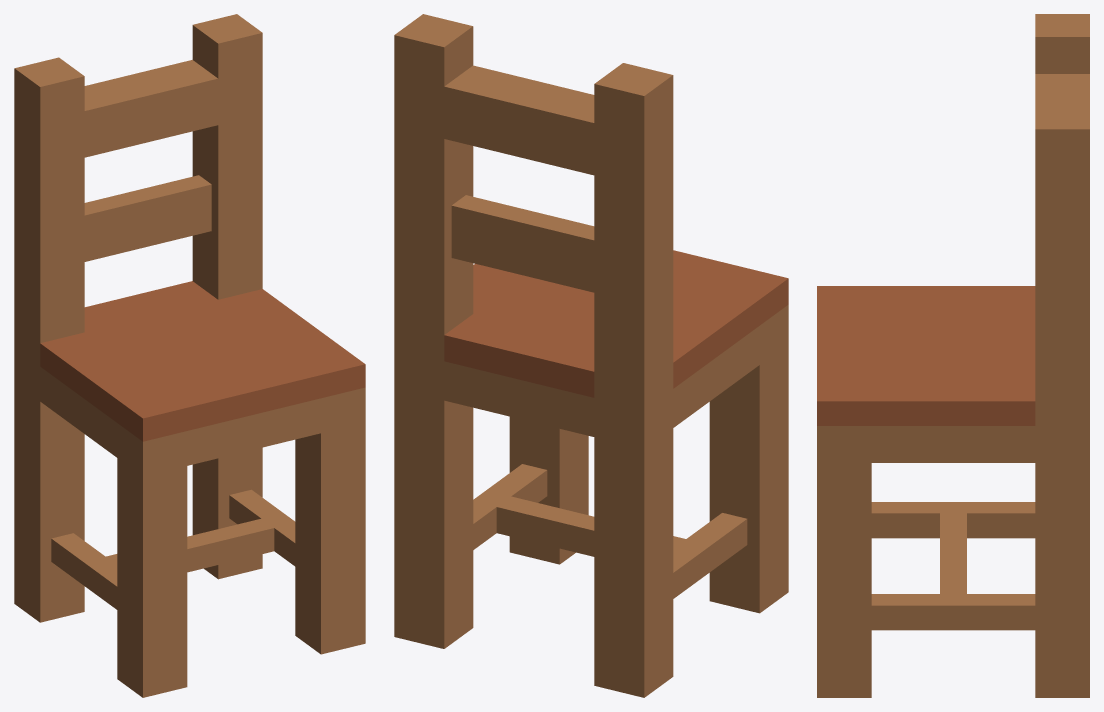
The model's file is chairCushion.glb.
3 renders of one model, left to right at view 1: azimuth 30°, elevation 25°; view 2: azimuth 150°, elevation 25°; view 3: azimuth 270°, elevation 25°, orthographic. The views are drawn at different scales.
Visible parts, largest first — view 1: Mesh_chairCushion, Mesh_chairCushion_1; view 2: Mesh_chairCushion, Mesh_chairCushion_1; view 3: Mesh_chairCushion, Mesh_chairCushion_1.
Boxes of the visible parts, x1,y1,x2,y2 form: Mesh_chairCushion: (14, 14, 365, 697); Mesh_chairCushion_1: (40, 281, 365, 441); Mesh_chairCushion: (394, 14, 788, 697); Mesh_chairCushion_1: (444, 250, 788, 397); Mesh_chairCushion: (817, 14, 1089, 697); Mesh_chairCushion_1: (817, 286, 1035, 425).
Bounding box in the file's own units: 0.4 × 0.92 × 0.4.
